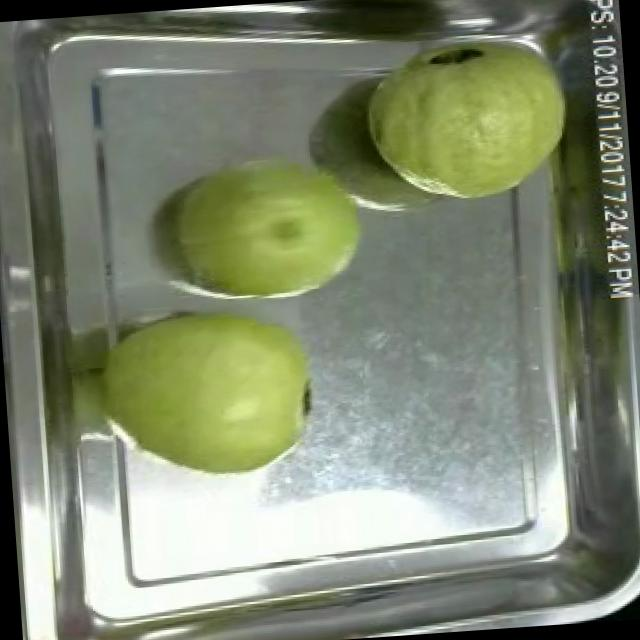Fruit: (97, 282, 331, 493), (350, 20, 583, 217), (156, 134, 378, 318)
